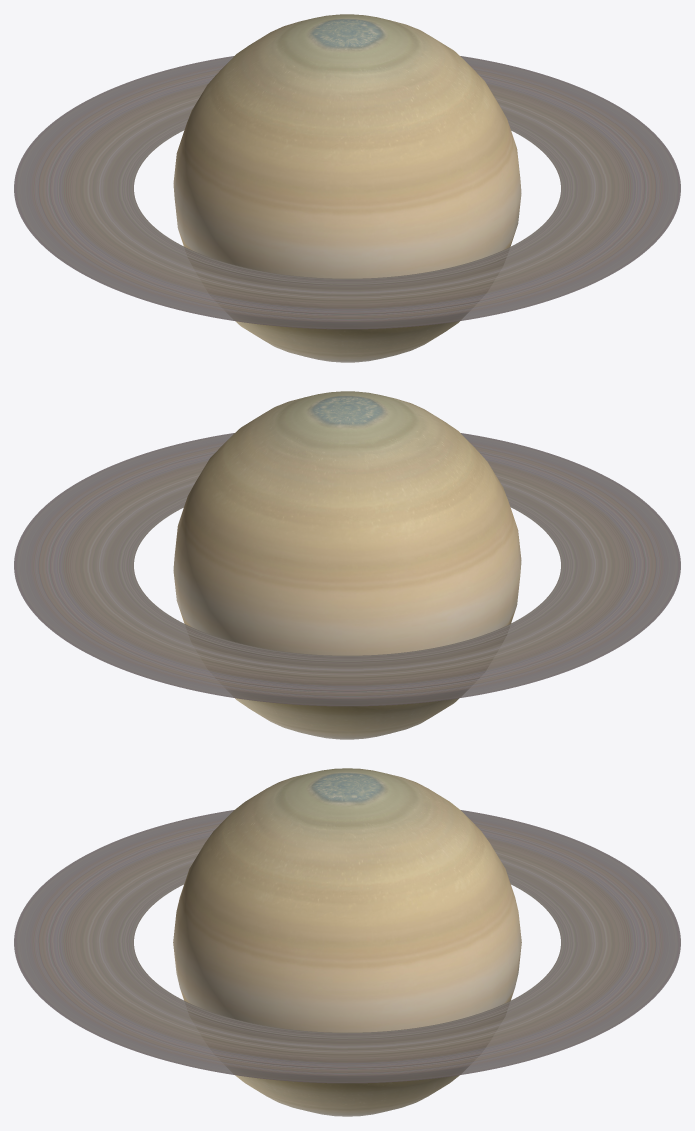
The model's file is saturn.gltf.
3 views of the same model, one above another, from view 1: azimuth 30°, elevation 25°; view 2: azimuth 150°, elevation 25°; view 3: azimuth 270°, elevation 25° (orthographic).
Parts seen in each view (by area): view 1: Sphere, Circle; view 2: Sphere, Circle; view 3: Sphere, Circle.
Part boxes in pixels (x1,y1,x2,y2): Sphere: [173, 14, 521, 362]; Circle: [14, 56, 680, 329]; Sphere: [173, 391, 521, 739]; Circle: [14, 433, 680, 706]; Sphere: [173, 768, 521, 1116]; Circle: [14, 810, 680, 1083].
Size of the model in its own units: 3.82 by 2 by 3.82.
Materials: 2 (2 with a texture image).
